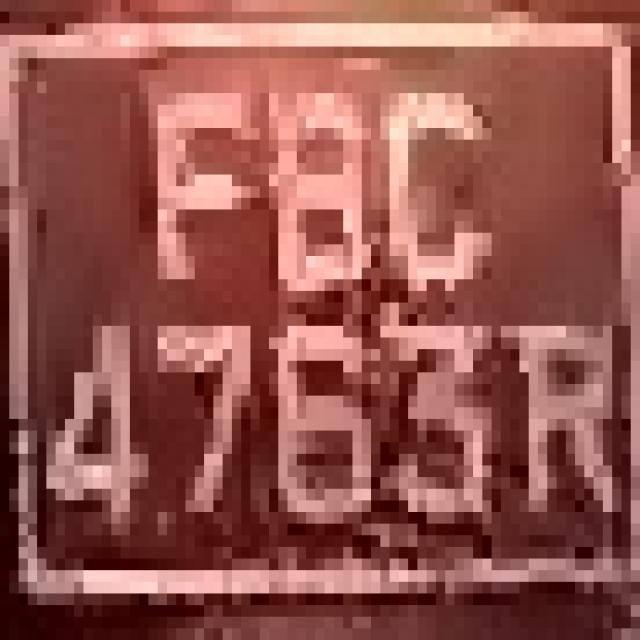3: (362, 291, 510, 524)
4: (28, 303, 167, 535)
6: (260, 302, 380, 558)
7: (111, 267, 269, 558)
B: (232, 58, 352, 338)
C: (371, 70, 492, 291)
F: (139, 70, 241, 314)
R: (501, 280, 621, 536)
